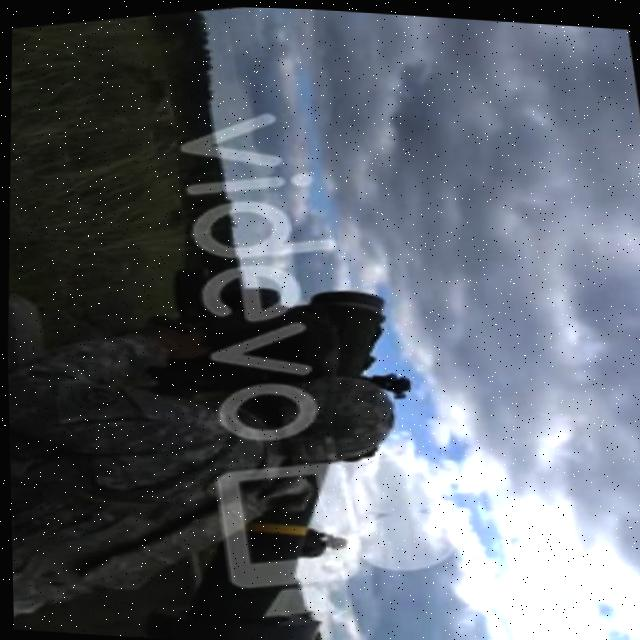rocket: (99, 273, 438, 640)
